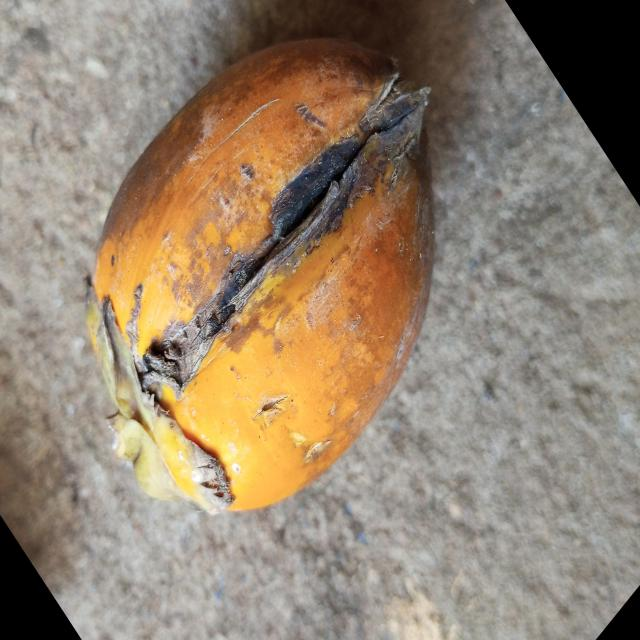damaged: (86, 38, 436, 517)
